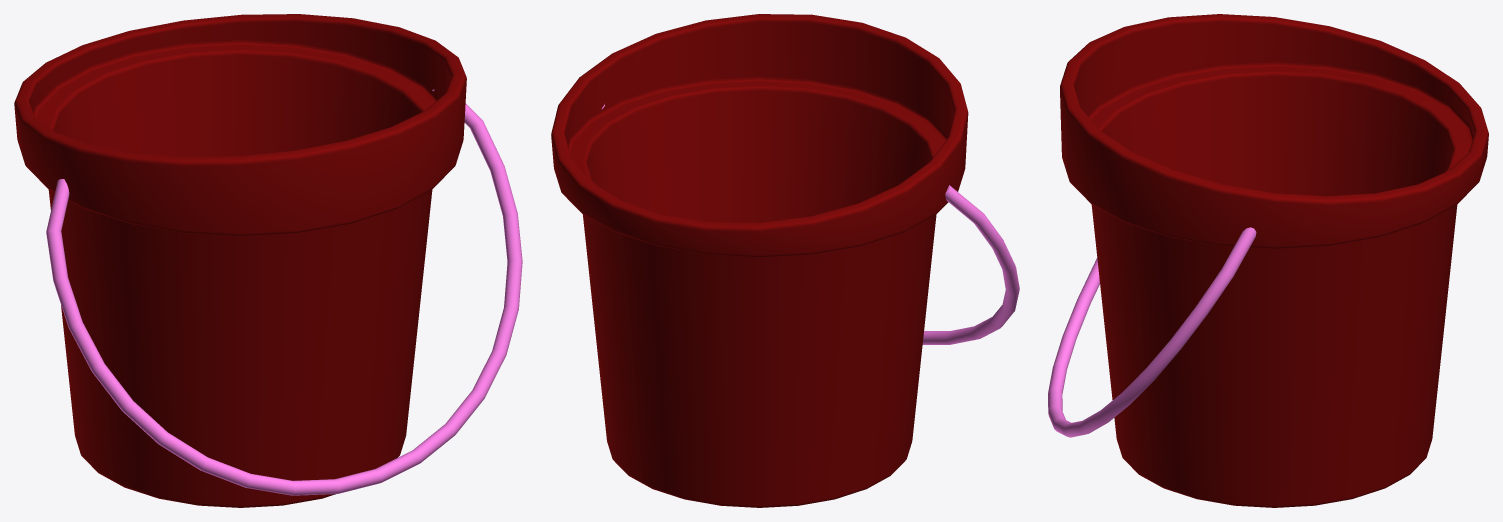
The model's file is SM_Bucket_A.fbx.
3 views of the same model, side by side, from view 1: azimuth 30°, elevation 25°; view 2: azimuth 150°, elevation 25°; view 3: azimuth 270°, elevation 25° (orthographic). The views are drawn at different scales.
Visible parts, largest first — view 1: SM_Bucket_A; view 2: SM_Bucket_A; view 3: SM_Bucket_A.
Boxes of the visible parts, x1=… form: SM_Bucket_A: x1=14, y1=14, x2=522, y2=507; SM_Bucket_A: x1=551, y1=14, x2=1019, y2=507; SM_Bucket_A: x1=1048, y1=14, x2=1488, y2=507.
Size of the model in its own units: 51.41 by 41.05 by 45.66.
